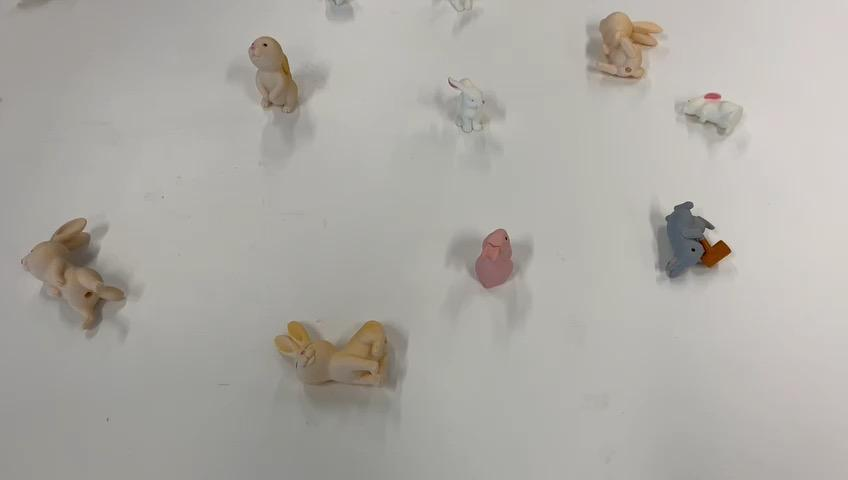pet: (28, 190, 131, 338), (581, 8, 672, 117), (231, 33, 326, 135), (288, 315, 417, 388), (643, 203, 732, 300), (433, 63, 519, 153), (456, 203, 528, 291), (663, 85, 750, 144)
